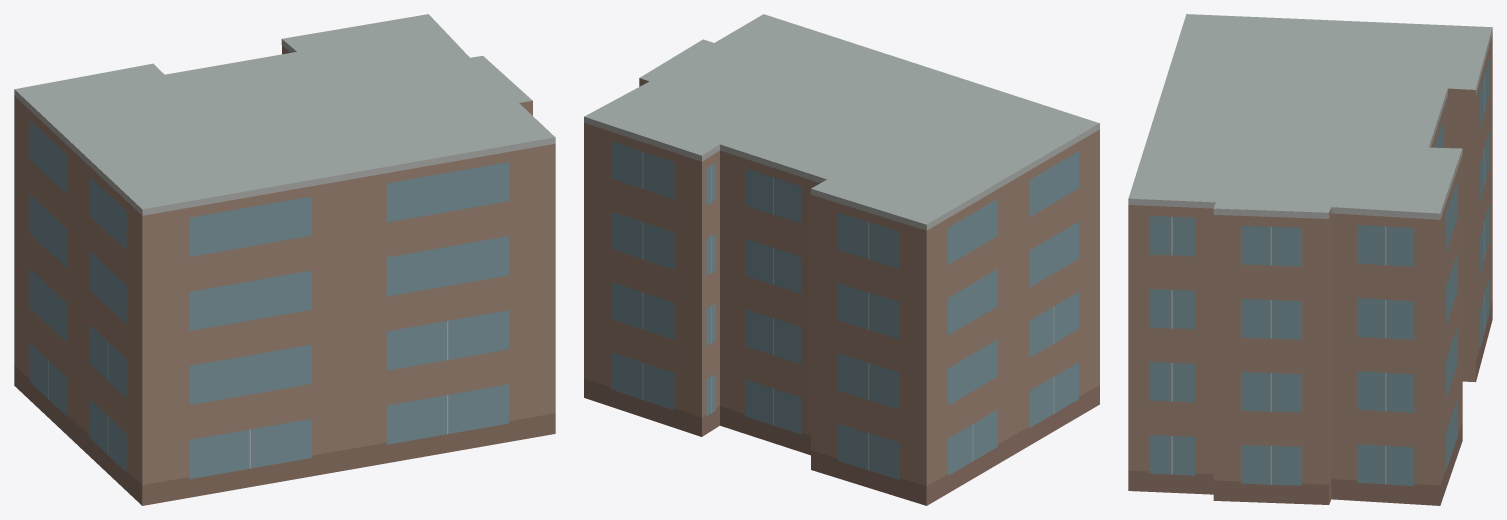
The model's file is survey-upis-32687222.glb.
3 views of the same model, side by side, from view 1: azimuth 30°, elevation 25°; view 2: azimuth 150°, elevation 25°; view 3: azimuth 270°, elevation 25° (orthographic). The views are drawn at different scales.
Parts seen in each view (by area): view 1: survey-upis-32687222.tmp; view 2: survey-upis-32687222.tmp; view 3: survey-upis-32687222.tmp.
Boxes of the visible parts, x1=… form: survey-upis-32687222.tmp: x1=14, y1=14, x2=555, y2=505; survey-upis-32687222.tmp: x1=584, y1=14, x2=1099, y2=505; survey-upis-32687222.tmp: x1=1128, y1=14, x2=1492, y2=505.
Bounding box in the file's own units: 16.71 × 11.4 × 12.88.
